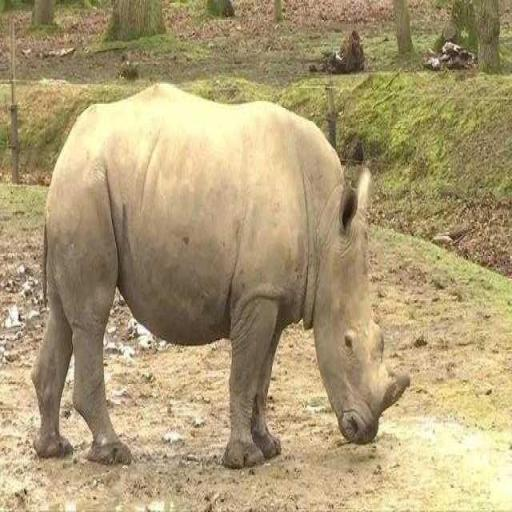Rhino: (30, 80, 410, 469)
